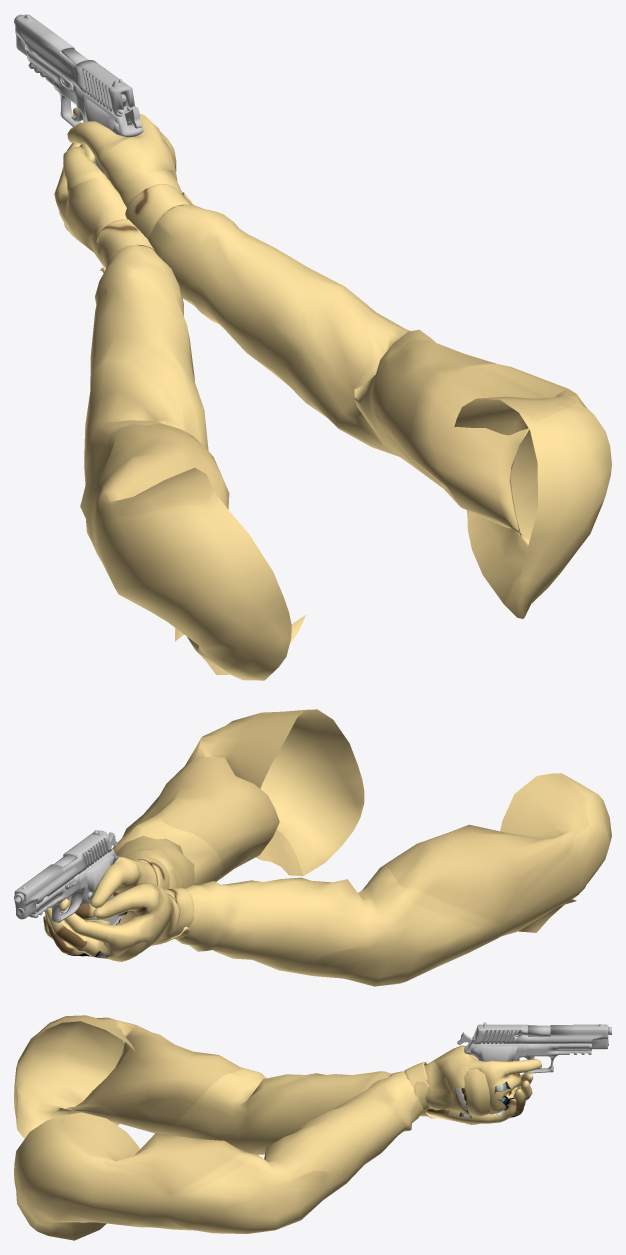
Rendered from gun.fbx.
3 renders of one model, top to bottom at view 1: azimuth 30°, elevation 25°; view 2: azimuth 150°, elevation 25°; view 3: azimuth 270°, elevation 25°, orthographic. The views are drawn at different scales.
Parts seen in each view (by area): view 1: Lowpoly002, Pistolius001; view 2: Lowpoly002, Pistolius001; view 3: Lowpoly002, Pistolius001.
Boxes of the visible parts, box(x1,y1,x2,y2) form: Lowpoly002: box(54, 107, 611, 680); Pistolius001: box(14, 14, 143, 173); Lowpoly002: box(43, 709, 611, 986); Pistolius001: box(14, 830, 118, 924); Lowpoly002: box(14, 1015, 541, 1240); Pistolius001: box(457, 1022, 611, 1090).
Bounding box in the file's own units: 18.53 × 11.21 × 30.89.
